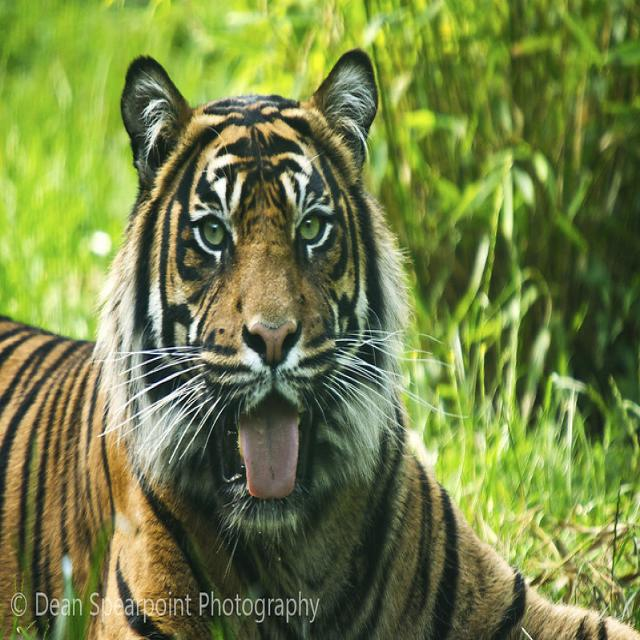Tiger: (0, 43, 567, 638)
